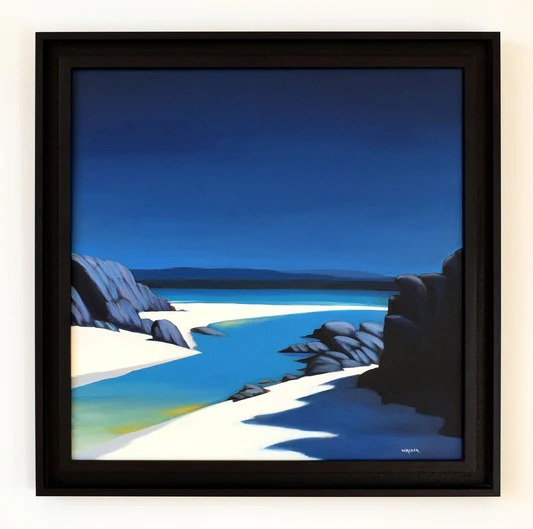painting: (33, 30, 502, 497)
